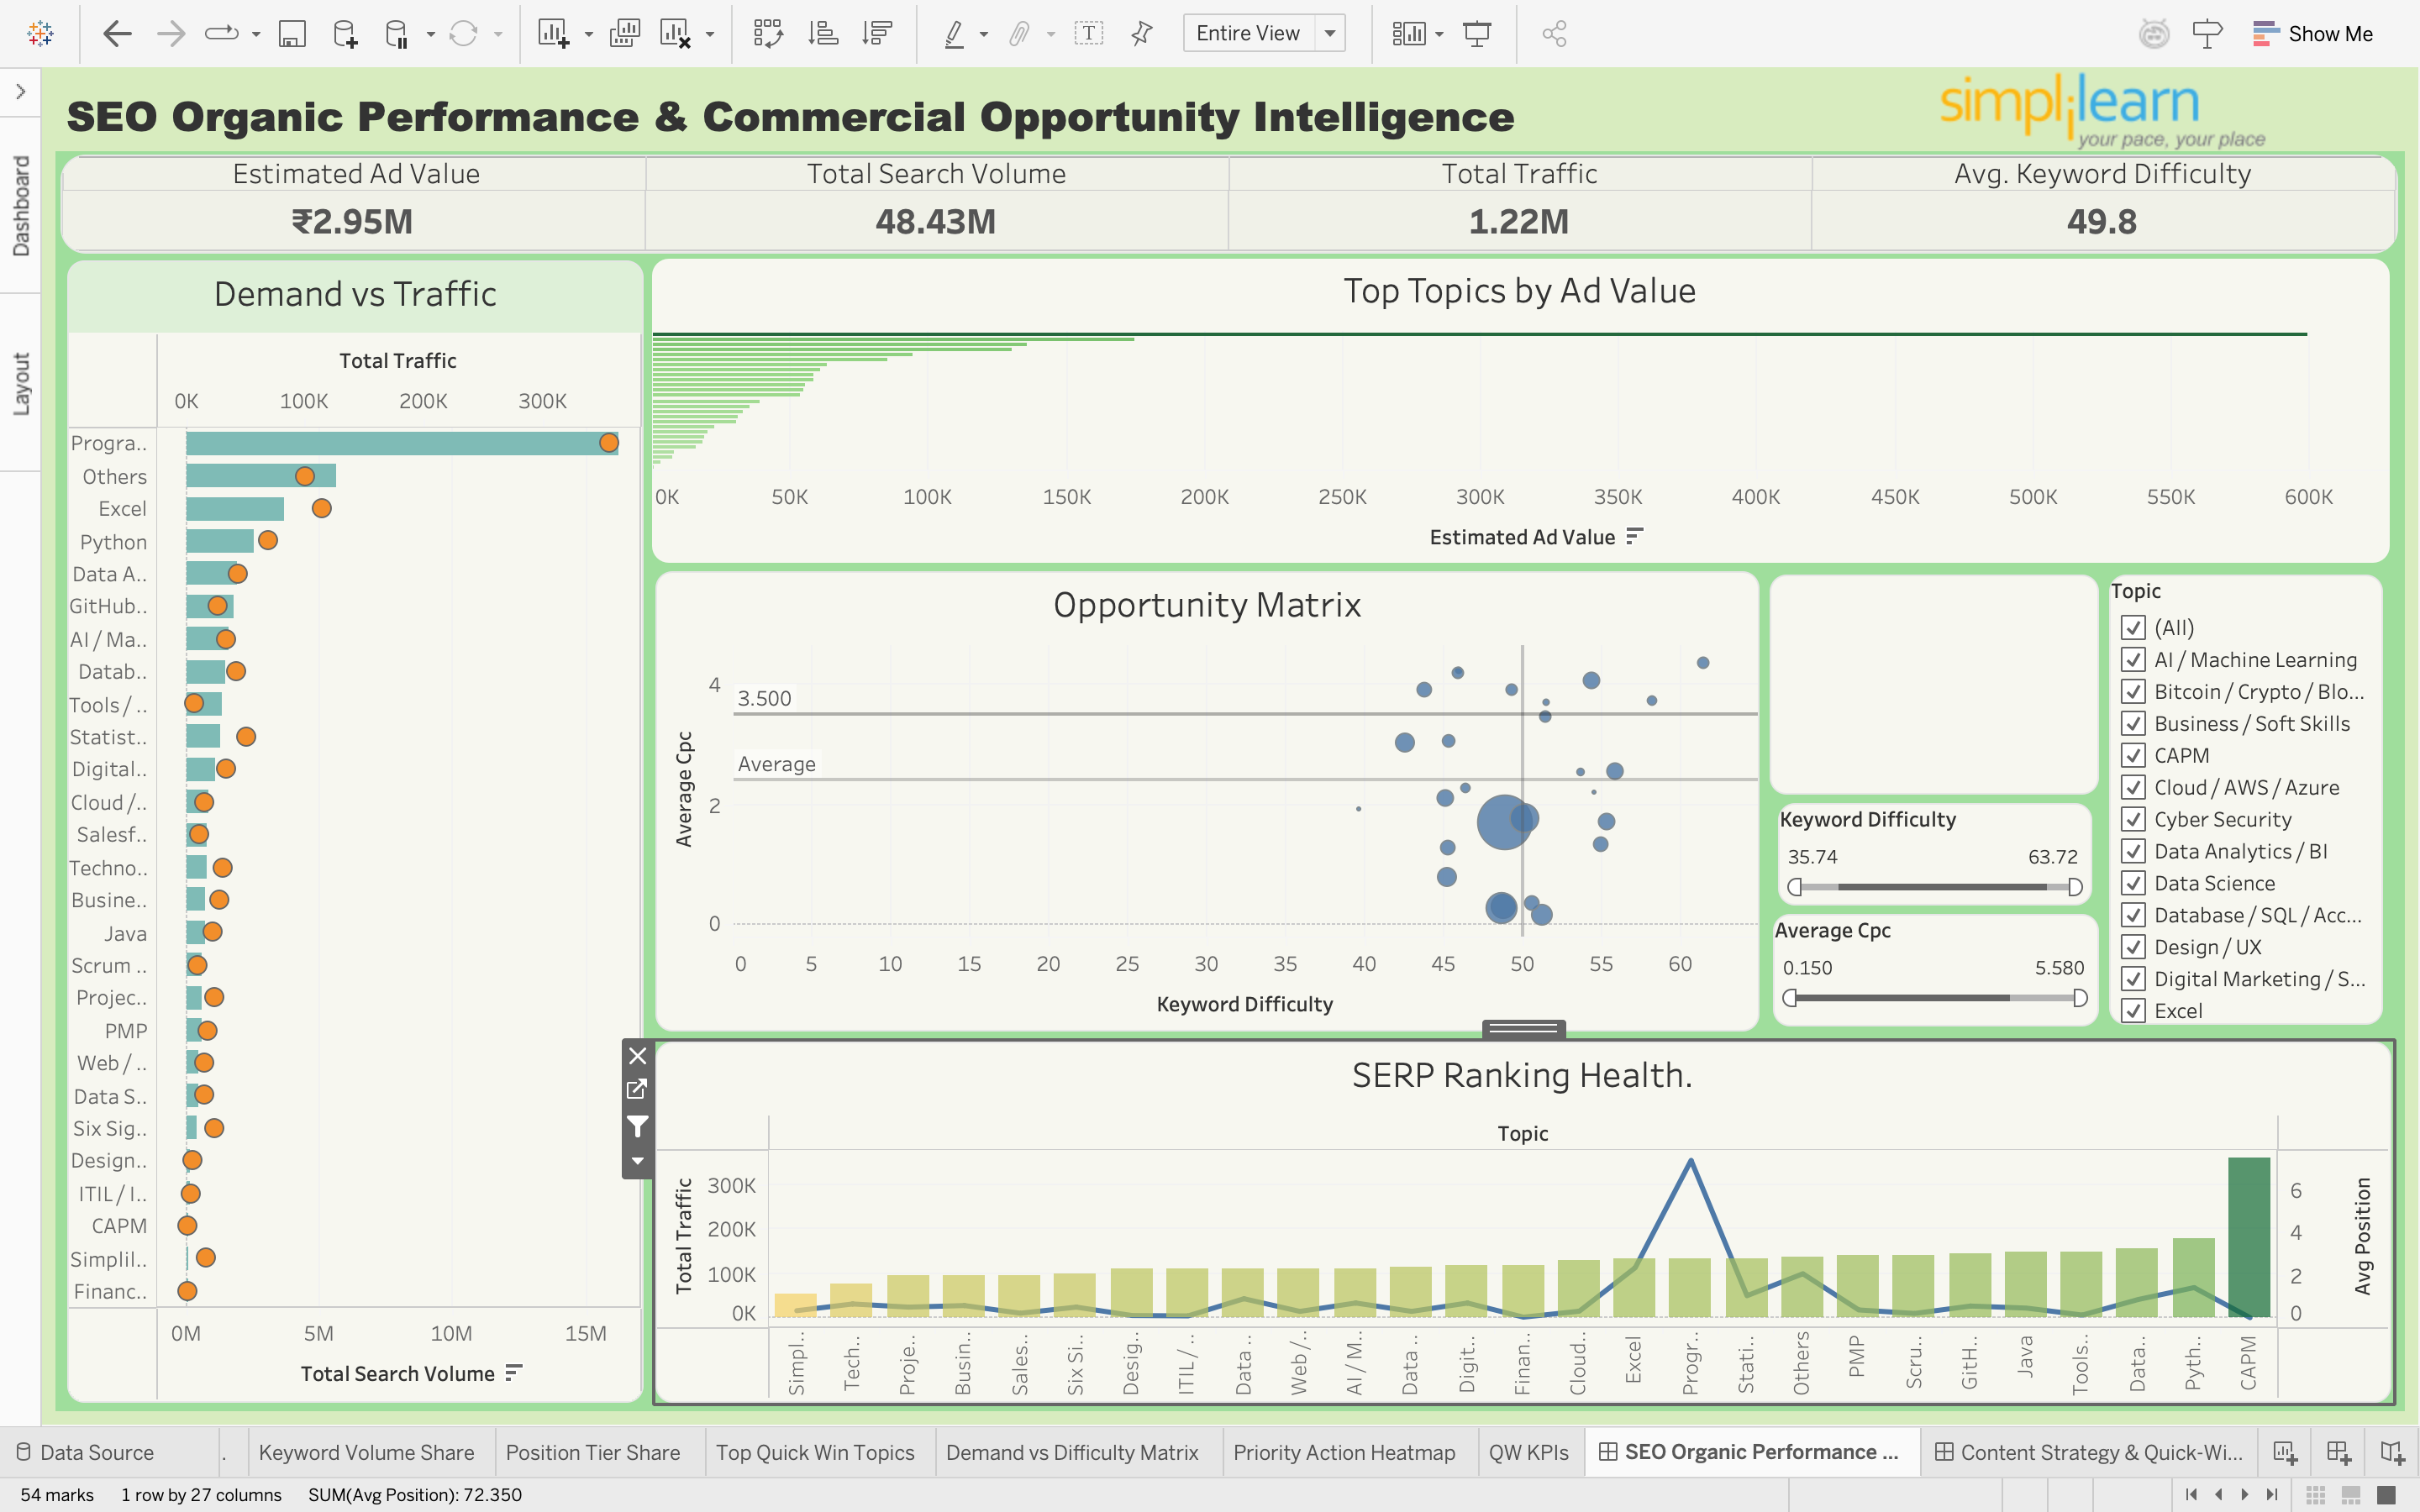

What the dashboard file says about the page in this screenshot:
{"tool":"tableau","page":{"name":"SEO Organic Performance & Commercial Opprtunity Intelligence","canvas":[1000,1000],"units":"permille","ordinal":1},"visuals":[{"type":"title","box":[5.7,11.5,988.7,60.6]},{"type":"worksheet","title":"Traffic By Topic","mark":"Automatic","box":[8.1,64.4,983.9,73]},{"type":"worksheet","title":"Top Topics by Ad Value","mark":"Bar","rows":["topic"],"cols":["Calculation_0357651422134272"],"box":[256.5,141.1,731.3,224]},{"type":"worksheet","title":"Demand vs Traffic","mark":"Automatic","rows":["topic"],"cols":["total_search_volume","total_traffic"],"box":[10.7,142.3,242.8,841.6]},{"type":"worksheet","title":"Opportunity Matrix","mark":"Circle","rows":["average_cpc"],"cols":["average_keyword_difficulty"],"box":[258.5,371.3,464.9,339.1]},{"type":"filter","title":"Opportunity Matrix","param":"[federated.0kad7l11gxtscz1e6xurk1t6pcoy].[usr:Calculation_0357651422560258:nk]","box":[726.7,373.8,138.7,162.1]},{"type":"filter","title":"Top Topics by Ad Value","param":"[federated.0kad7l11gxtscz1e6xurk1t6pcoy].[none:topic:nk]","box":[869.5,373.8,115.6,331.7]},{"type":"filter","title":"Opportunity Matrix","param":"[federated.0kad7l11gxtscz1e6xurk1t6pcoy].[sum:average_keyword_difficulty:qk]","box":[730.8,542.1,132.1,75.5]},{"type":"filter","title":"Opportunity Matrix","param":"[federated.0kad7l11gxtscz1e6xurk1t6pcoy].[sum:average_cpc:qk]","box":[728.3,623.8,137.1,82.9]},{"type":"worksheet","title":"SERP Ranking Health.","mark":"Bar","rows":["total_traffic","avg_position"],"cols":["topic"],"box":[258.4,717.8,730.9,266.1]}]}

Visuals, with their boxes on the dashboard's canvas, which has no fixed pixel size, in thousandths of its width and height (x1, y1, x2, y2). These are canvas units, not pixel positions in the 2420x1512 screenshot, which may show the page scaled, cropped or inside an application window:
title: region(6, 12, 994, 72)
"Traffic By Topic" worksheet: region(8, 64, 992, 137)
"Top Topics by Ad Value" worksheet (Bar marks): region(256, 141, 988, 365)
"Demand vs Traffic" worksheet: region(11, 142, 254, 984)
"Opportunity Matrix" worksheet (Circle marks): region(258, 371, 723, 710)
"Opportunity Matrix" filter: region(727, 374, 865, 536)
"Top Topics by Ad Value" filter: region(870, 374, 985, 706)
"Opportunity Matrix" filter: region(731, 542, 863, 618)
"Opportunity Matrix" filter: region(728, 624, 865, 707)
"SERP Ranking Health." worksheet (Bar marks): region(258, 718, 989, 984)
